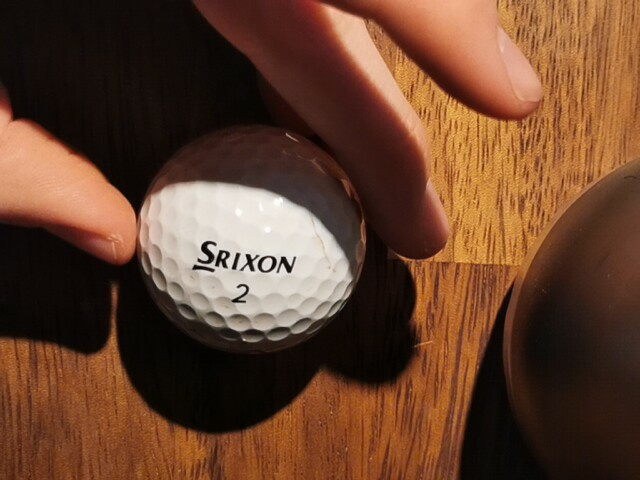Ball: (135, 124, 367, 355)
Srixon: (192, 241, 296, 274)
